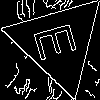E: (33, 18, 87, 63)
